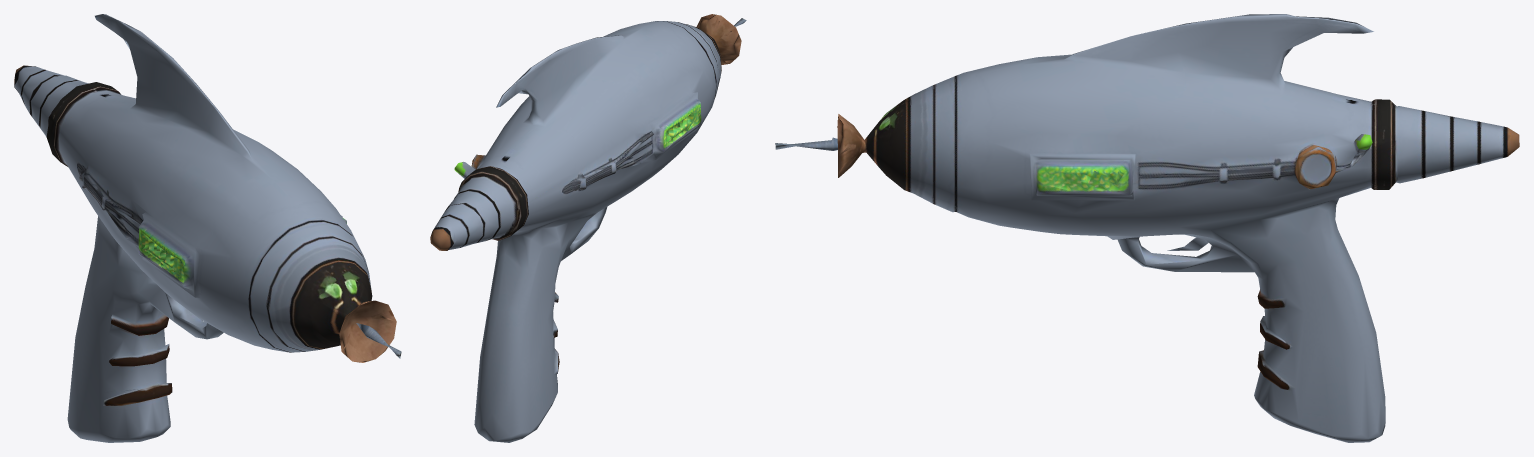
Rendered from PlayerGun.fbx.
3 views of the same model, side by side, from view 1: azimuth 30°, elevation 25°; view 2: azimuth 150°, elevation 25°; view 3: azimuth 270°, elevation 25° (orthographic). The views are drawn at different scales.
Parts seen in each view (by area): view 1: tripo_node_6cde8ca3; view 2: tripo_node_6cde8ca3; view 3: tripo_node_6cde8ca3.
Boxes of the visible parts, box(x1,y1,x2,y2) form: tripo_node_6cde8ca3: box(14, 14, 401, 442); tripo_node_6cde8ca3: box(430, 14, 746, 442); tripo_node_6cde8ca3: box(775, 14, 1519, 442).
Bounding box in the file's own units: 0.2501 × 0.622 × 0.9979.
Materials: 1 (1 with a texture image).
